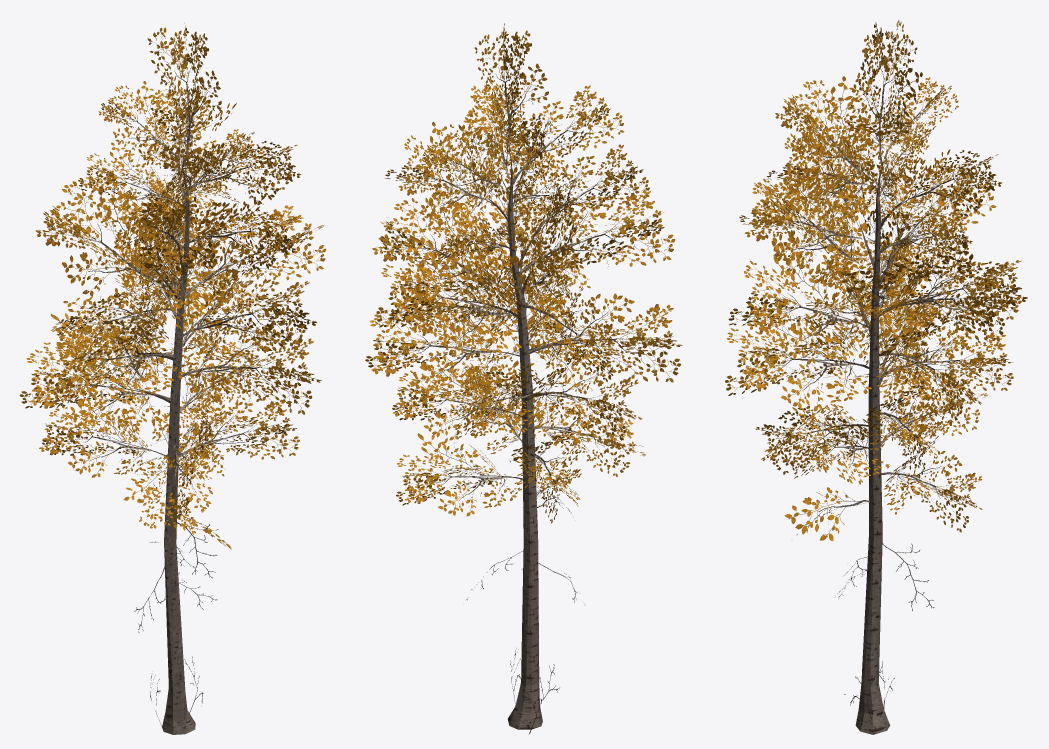
The model's file is highway-tree.glb.
The picture shows the model from 3 angles, left to right: view 1: azimuth 30°, elevation 25°; view 2: azimuth 150°, elevation 25°; view 3: azimuth 270°, elevation 25°; orthographic projection.
Bounding box in the file's own units: 651 × 1476 × 595.
Materials: 1 (1 with a texture image).
